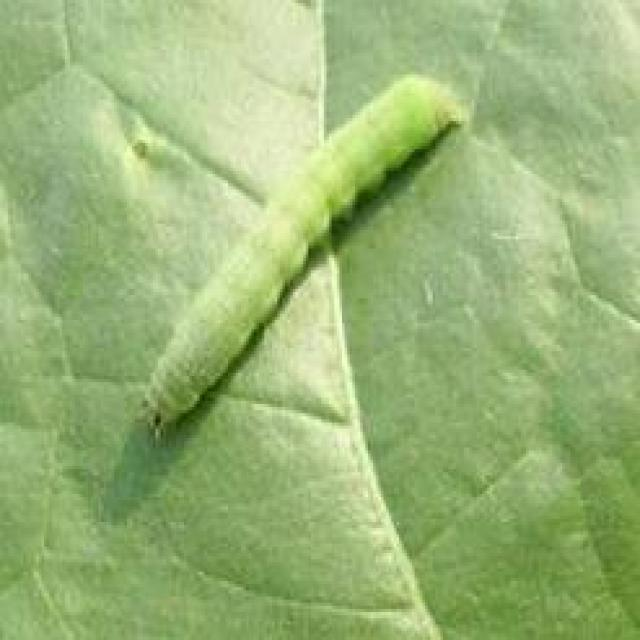BeetArmyWorm-Larva-: (125, 66, 478, 442)
